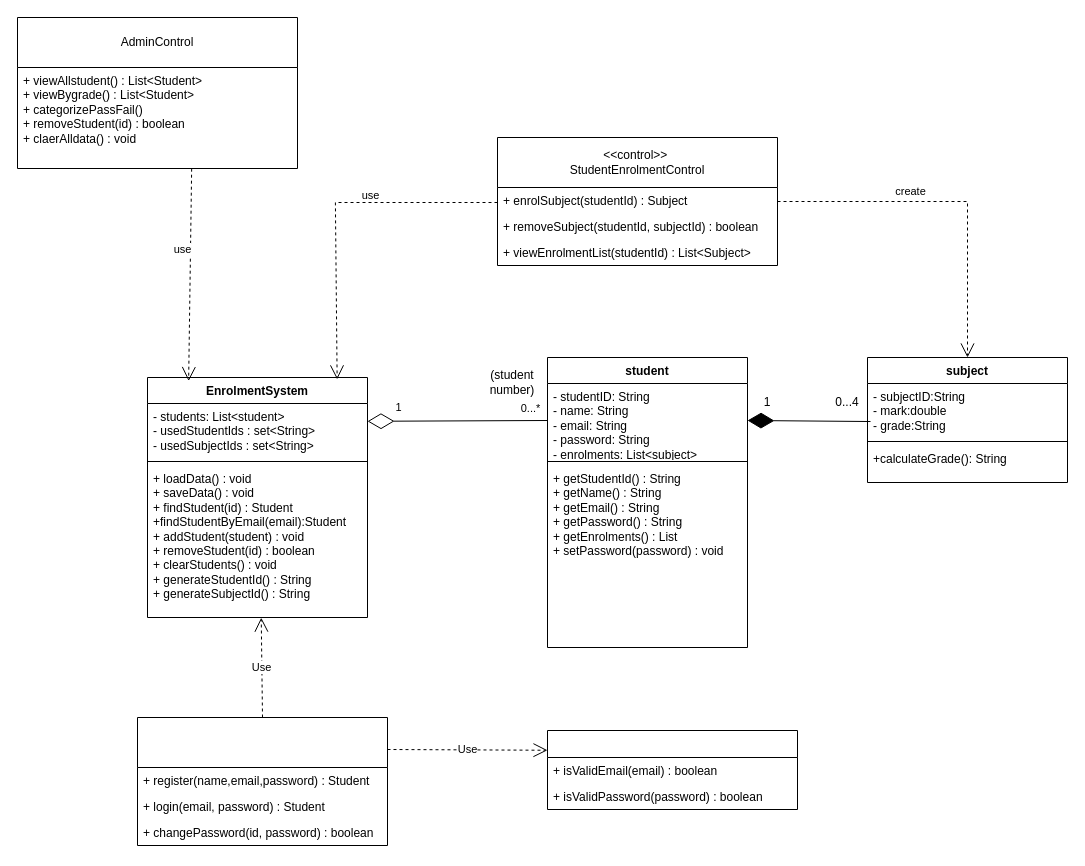
This 1085x866 diagram has some shape labels left out. Each missing label, with the box of its shape:
StudentAccountControl: (136, 716, 388, 846)
Validator: (546, 730, 798, 810)
